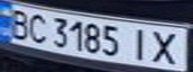1: (63, 18, 84, 52)
3: (48, 16, 72, 50)
5: (100, 24, 124, 57)
8: (81, 20, 103, 55)
B: (3, 6, 33, 39)
C: (24, 11, 51, 44)
I: (124, 26, 154, 62)
X: (145, 28, 187, 66)
